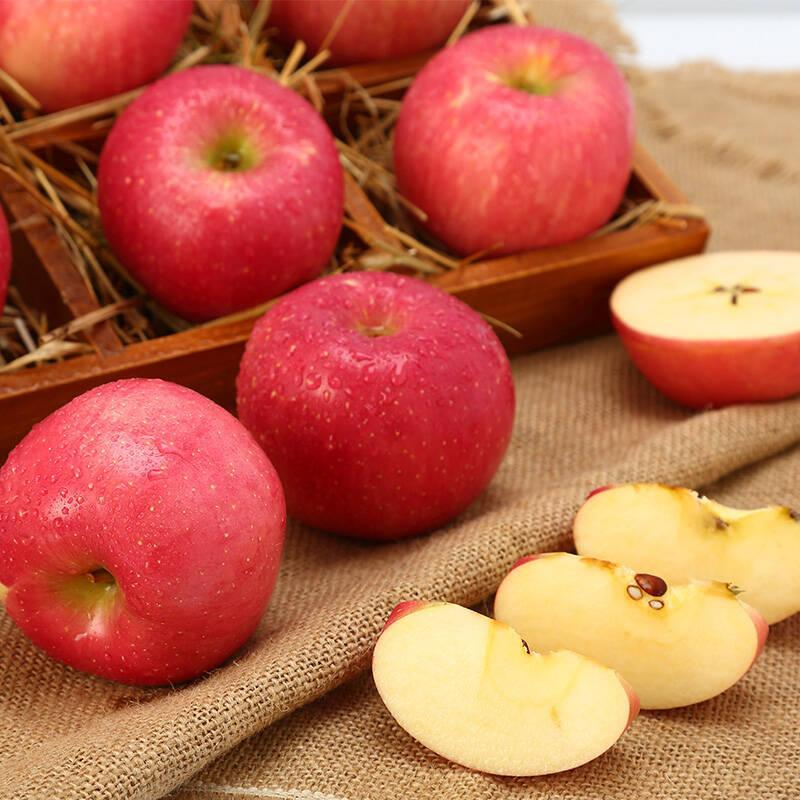apple: (0, 398, 287, 697), (234, 271, 516, 541), (98, 87, 346, 333), (389, 21, 638, 259), (0, 1, 185, 116)
